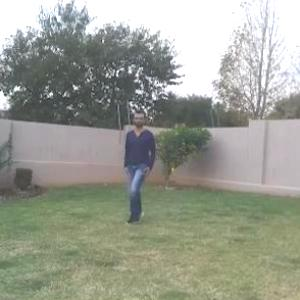follow: (123, 110, 155, 220)
